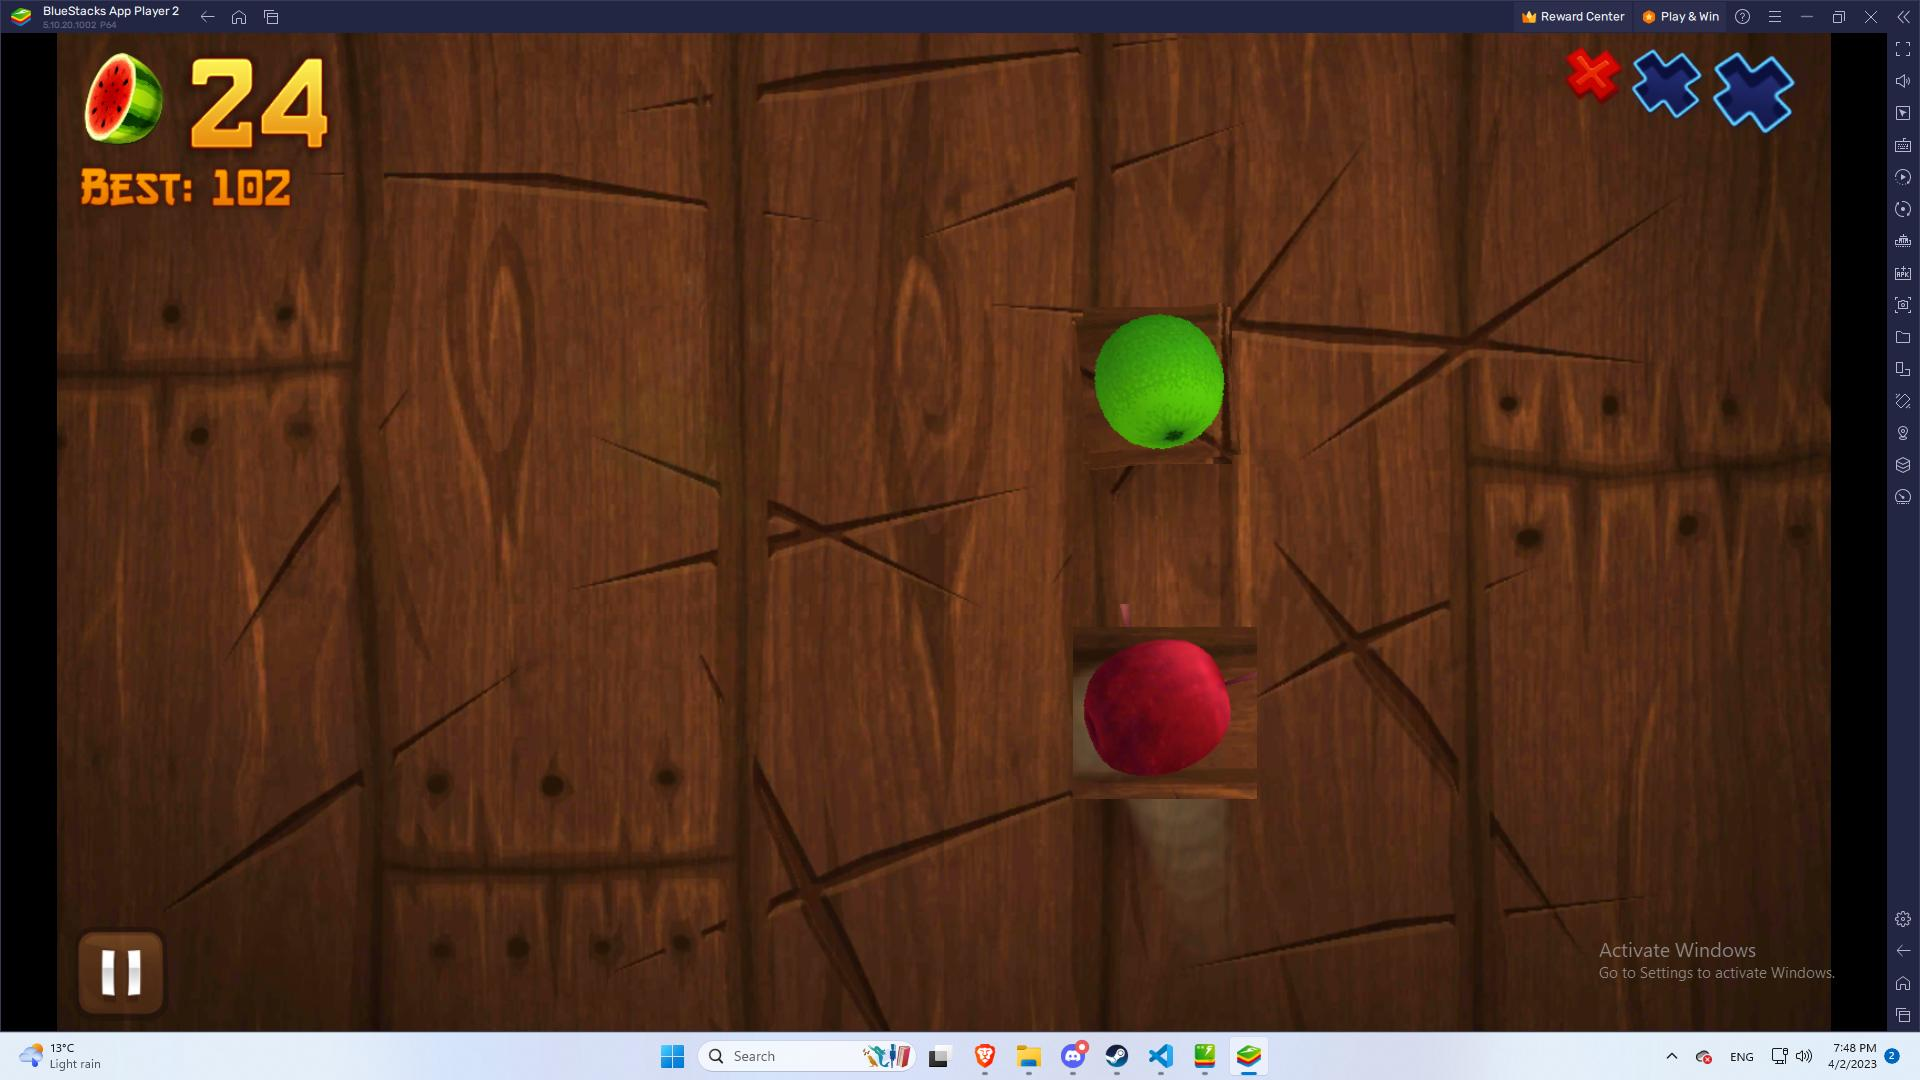fruit: (1076, 624, 1254, 803), (1076, 306, 1238, 467)
